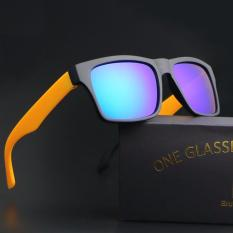sunglasses: (7, 50, 226, 149)
